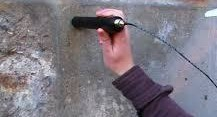Corrosion: (1, 73, 30, 92)
Spalling: (1, 1, 57, 117)
